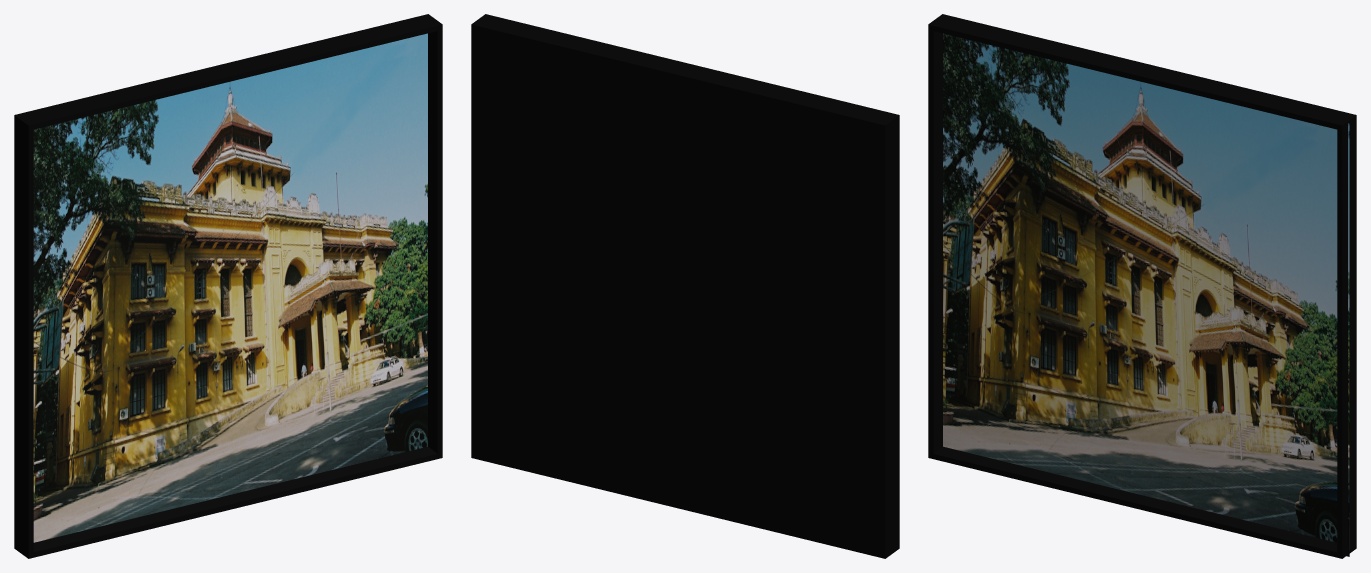
Rendered from 19LeThanhTong.obj.
3 renders of one model, left to right at view 1: azimuth 30°, elevation 25°; view 2: azimuth 150°, elevation 25°; view 3: azimuth 330°, elevation 25°, orthographic.
Visible parts, largest first — view 1: Plane, Cube; view 2: Cube; view 3: Plane, Cube.
Part boxes in pixels (x1,y1,x2,y2): Plane: (33,33,427,542); Cube: (14,14,442,558); Cube: (471,14,899,558); Plane: (943,33,1349,556); Cube: (928,14,1356,558).
Size of the model in its own units: 1 by 1 by 0.06.
Materials: 2 (1 with a texture image).
